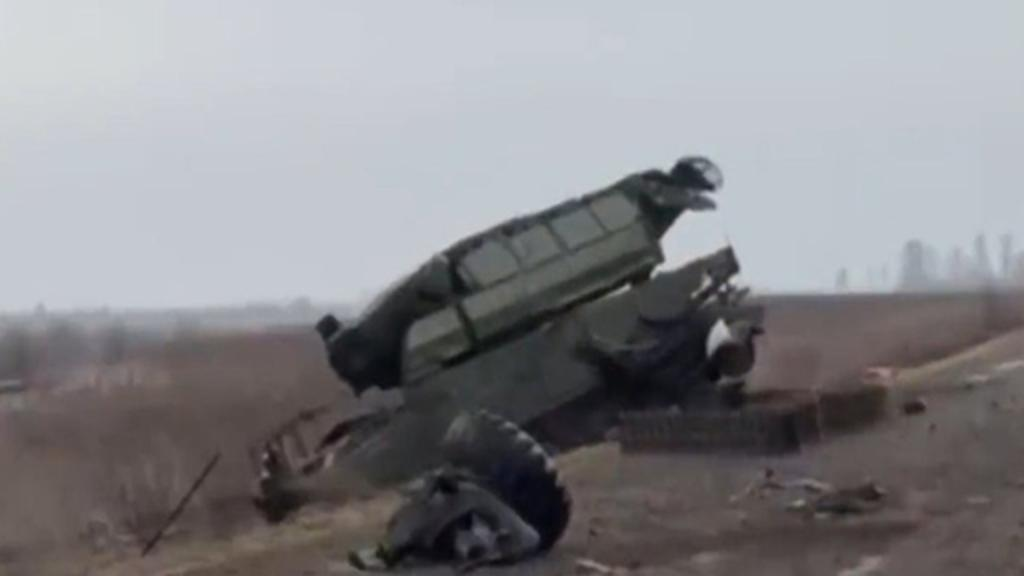MLRS: (244, 134, 764, 528)
